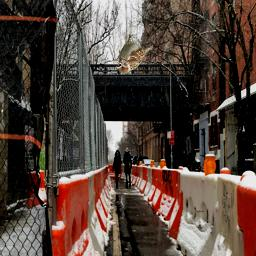Sparrow: (116, 34, 153, 74)
